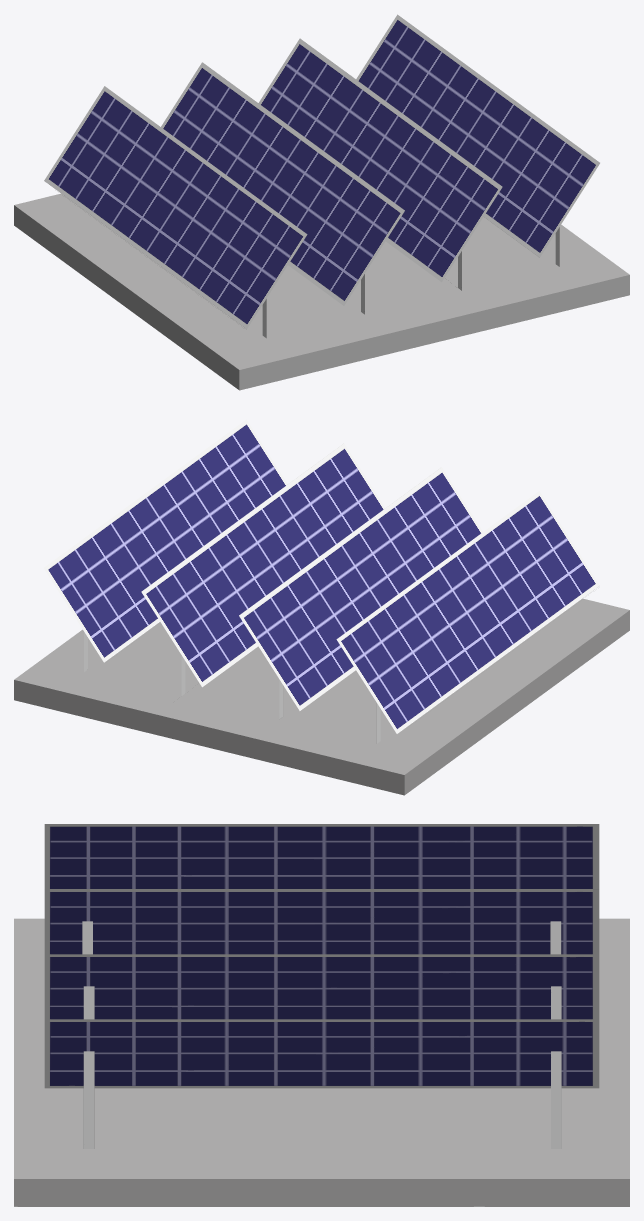
The model's file is Solarpanels02.fbx.
The picture shows the model from 3 angles, top to bottom: view 1: azimuth 30°, elevation 25°; view 2: azimuth 150°, elevation 25°; view 3: azimuth 270°, elevation 25°; orthographic projection. The views are drawn at different scales.
Parts seen in each view (by area): view 1: Pole01; view 2: Pole01; view 3: Pole01.
Part boxes in pixels (box(x1,y1,x2,y2)): Pole01: box(14, 14, 629, 390); Pole01: box(14, 419, 629, 795); Pole01: box(14, 824, 629, 1206).
Size of the model in its own units: 200 by 62.87 by 200.
